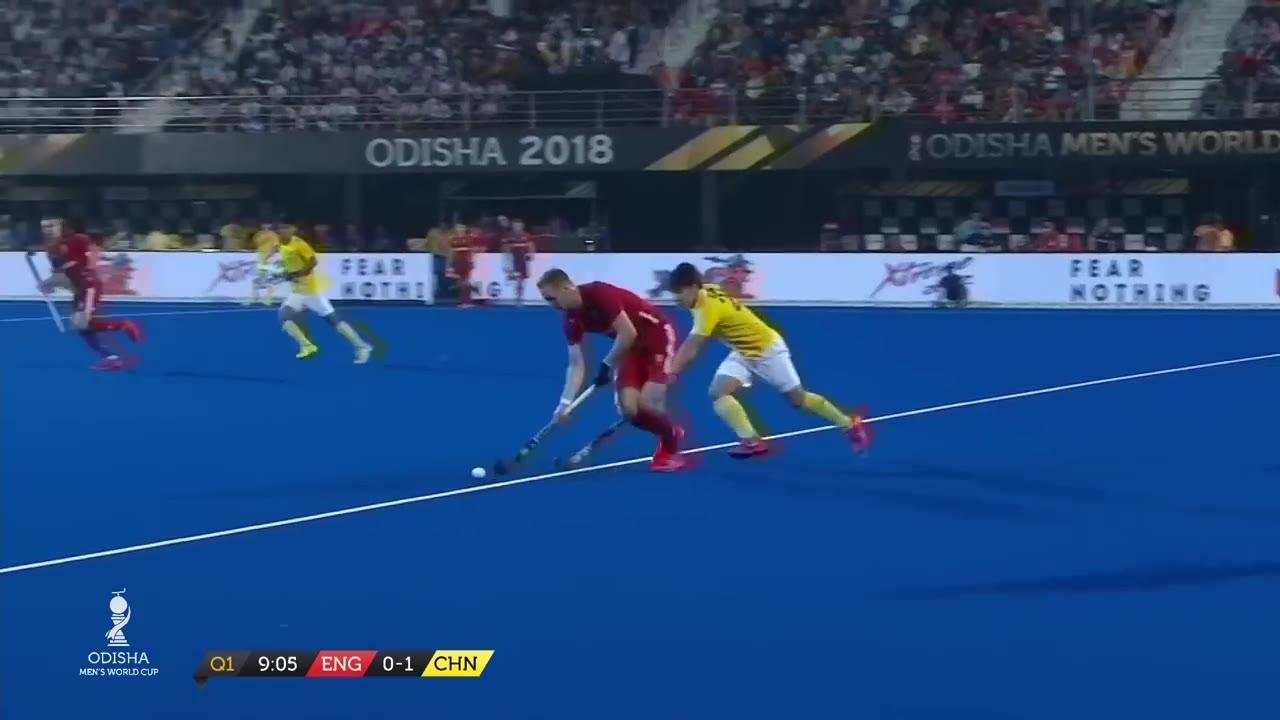ball: (467, 453, 495, 485)
